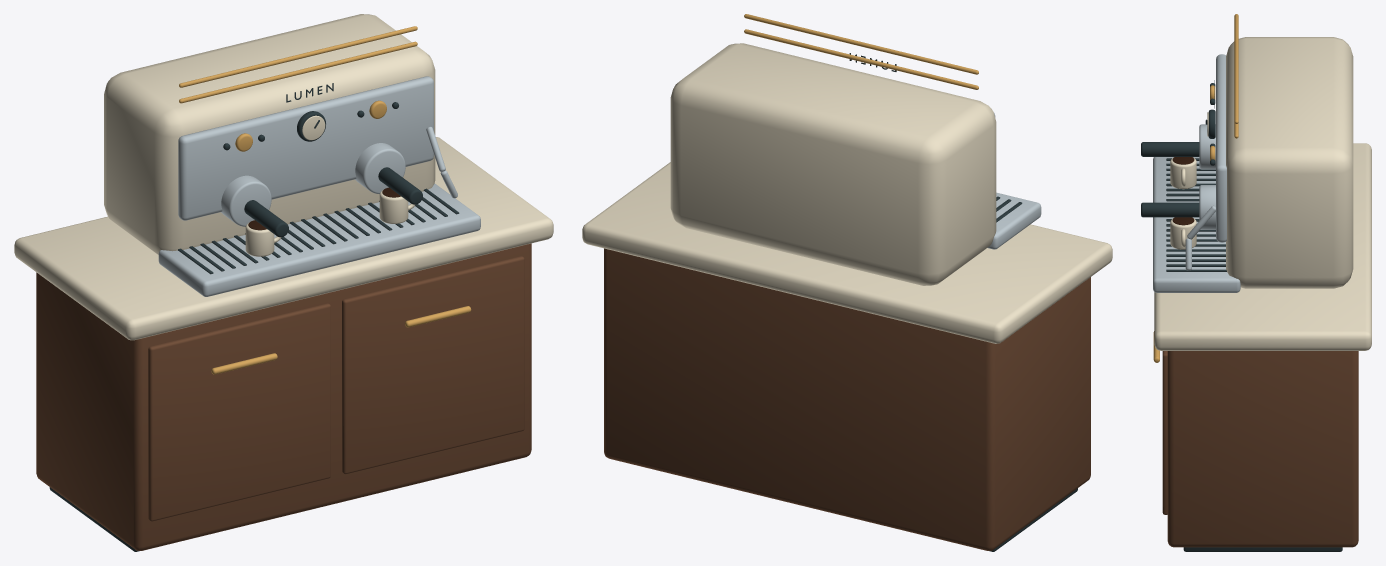
File: EspressoStation.glb
3 renders of one model, left to right at view 1: azimuth 30°, elevation 25°; view 2: azimuth 150°, elevation 25°; view 3: azimuth 270°, elevation 25°, orthographic. The views are drawn at different scales.
Visible parts, largest first — view 1: Walnut cabinet, Espresso chassis, Recessed cabinet door, Recessed cabinet door.001, Stone counter, Front fascia, Drip tray, Brew group, Brew group.001, Cup rail, Cup rail.001, Portafilter handle (+3 smaller); view 2: Walnut cabinet, Espresso chassis, Stone counter, Drip tray, Cup rail.001, Cup rail; view 3: Walnut cabinet, Espresso chassis, Stone counter, Drip tray, Front fascia, Recessed cabinet door.001, Portafilter handle.001, Portafilter handle, Cabinet leg.001, Porcelain cup, Brew group.001, Brew group (+2 smaller).
Part boxes in pixels (<box>): Walnut cabinet: <box>36,243,531,550</box>; Espresso chassis: <box>104,14,435,254</box>; Recessed cabinet door: <box>148,303,330,521</box>; Recessed cabinet door.001: <box>342,256,524,474</box>; Stone counter: <box>14,137,553,340</box>; Front fascia: <box>178,76,433,220</box>; Drip tray: <box>158,183,480,296</box>; Brew group: <box>221,175,271,226</box>; Brew group.001: <box>355,143,405,193</box>; Cup rail: <box>179,41,417,103</box>; Cup rail.001: <box>179,26,417,87</box>; Portafilter handle: <box>244,200,288,237</box>; Walnut cabinet: <box>604,248,1090,550</box>; Espresso chassis: <box>670,43,996,285</box>; Stone counter: <box>582,162,1112,343</box>; Drip tray: <box>987,192,1041,249</box>; Cup rail.001: <box>744,14,978,74</box>; Cup rail: <box>744,29,978,89</box>; Walnut cabinet: <box>1167,351,1358,547</box>; Espresso chassis: <box>1226,37,1353,288</box>; Stone counter: <box>1154,143,1371,350</box>; Drip tray: <box>1153,157,1240,292</box>; Front fascia: <box>1216,54,1226,242</box>; Recessed cabinet door.001: <box>1162,351,1167,514</box>; Portafilter handle.001: <box>1141,202,1199,217</box>; Portafilter handle: <box>1141,142,1199,156</box>; Cabinet leg.001: <box>1183,547,1342,551</box>; Porcelain cup: <box>1170,157,1196,189</box>; Brew group.001: <box>1199,185,1215,229</box>; Brew group: <box>1199,124,1215,169</box>.
Size of the model in its own units: 1.72 by 1.66 by 0.87.
